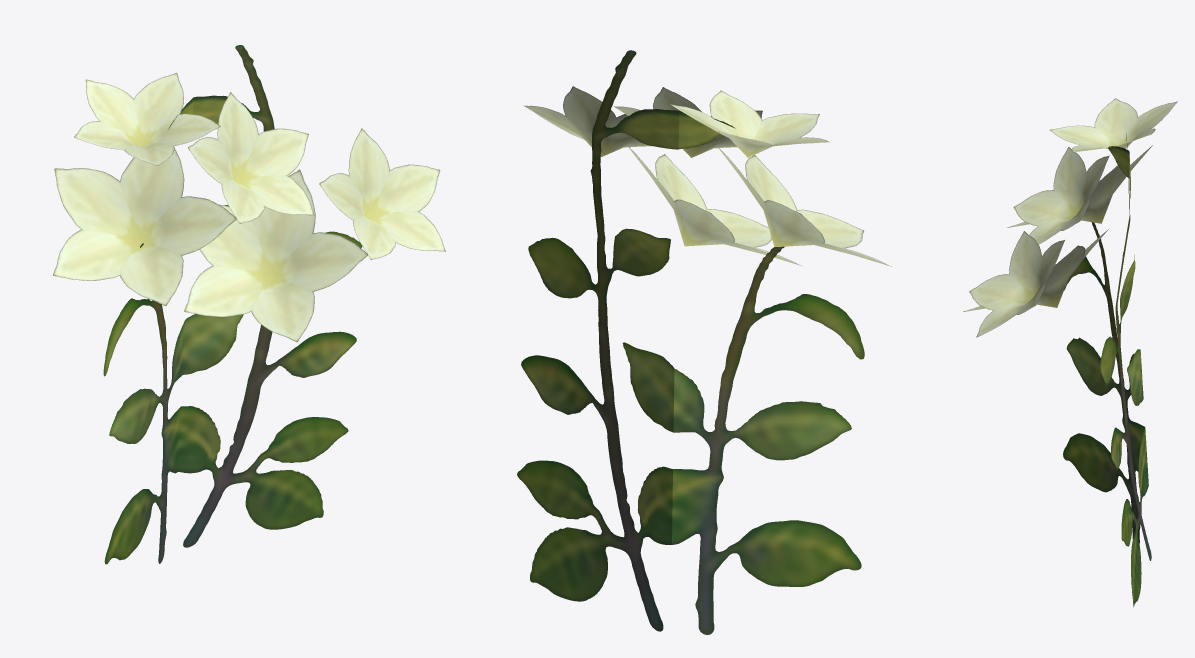
Rendered from sucai_21.FBX.
3 views of the same model, side by side, from view 1: azimuth 30°, elevation 25°; view 2: azimuth 150°, elevation 25°; view 3: azimuth 270°, elevation 25° (orthographic). The views are drawn at different scales.
Parts seen in each view (by area): view 1: Object013; view 2: Object013; view 3: Object013.
Boxes of the visible parts, x1,y1,x2,y2 form: Object013: (53,45,445,564); Object013: (517,50,891,634); Object013: (963,98,1177,607).
Size of the model in its own units: 60.72 by 78.75 by 33.59.
